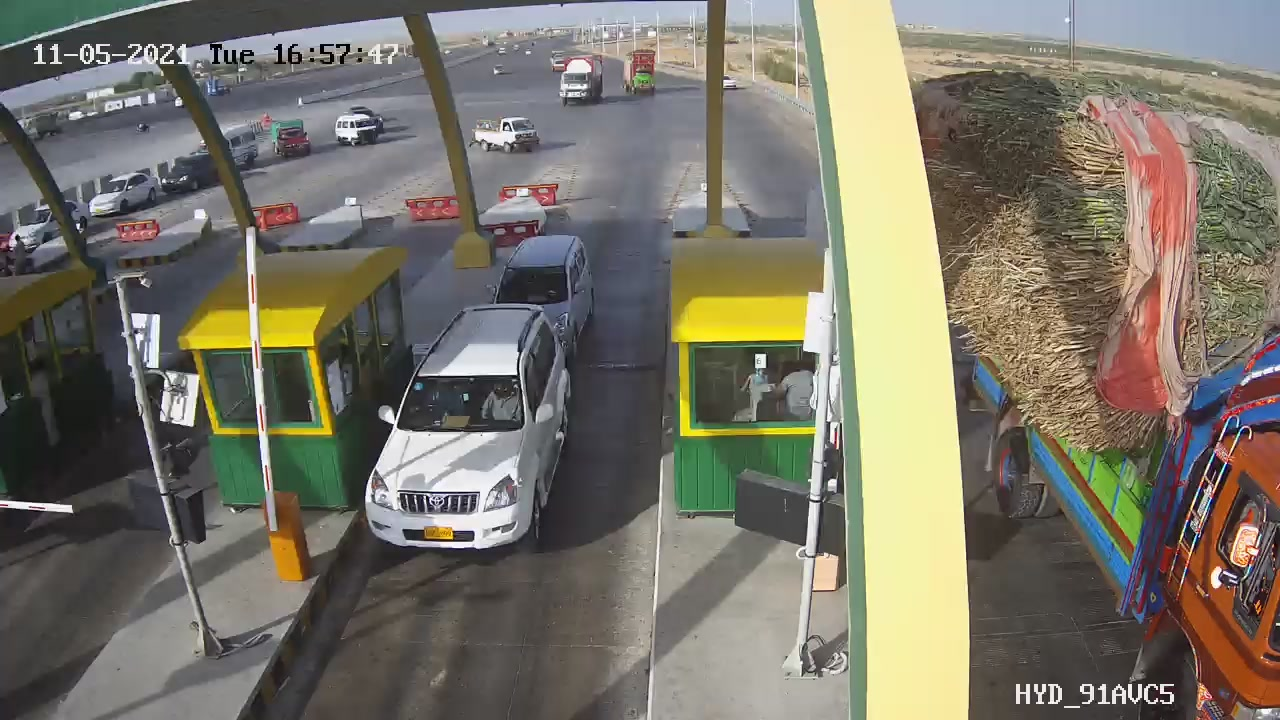F1: (344, 289, 598, 584), (465, 220, 619, 367)
